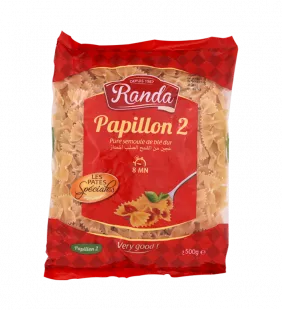RANDA: (36, 21, 244, 291)
